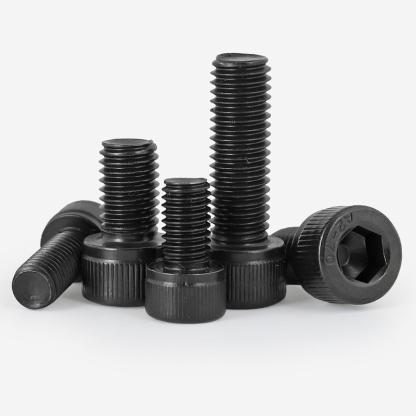FOD: (195, 51, 290, 309), (81, 135, 172, 305), (265, 202, 404, 307), (143, 176, 229, 326), (10, 199, 110, 311)
